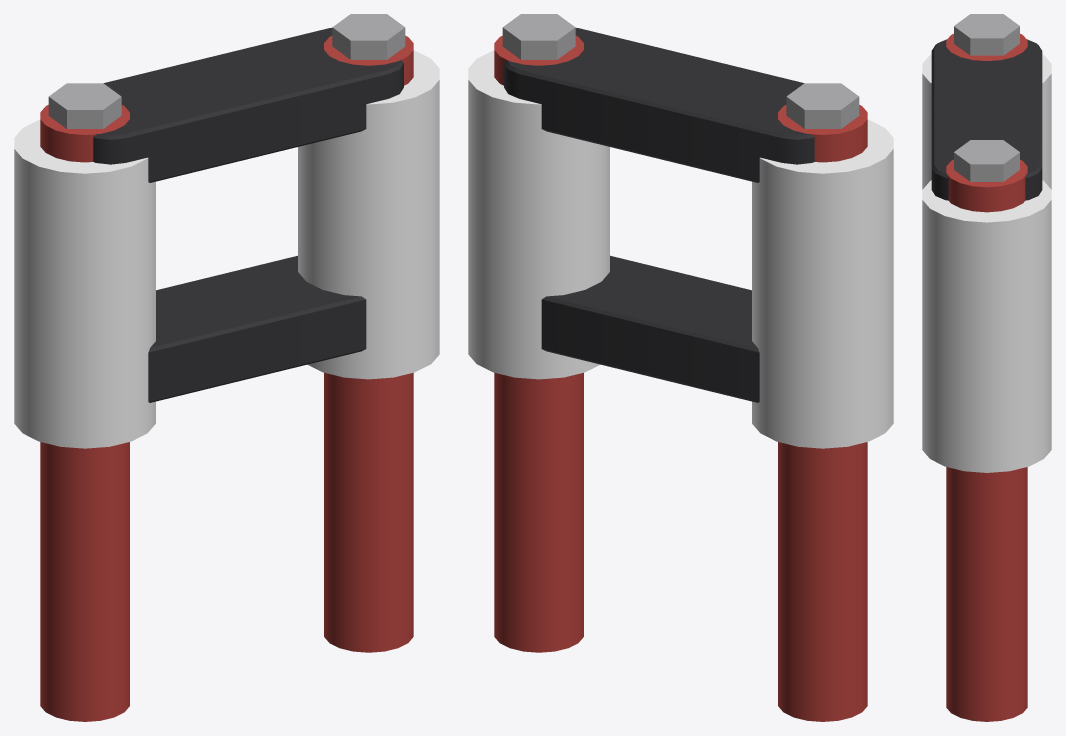
Rendered from cruiser_black_glide_upper.glb.
The picture shows the model from 3 angles, left to right: view 1: azimuth 30°, elevation 25°; view 2: azimuth 150°, elevation 25°; view 3: azimuth 270°, elevation 25°; orthographic projection. The views are drawn at different scales.
Visible parts, largest first — view 1: lod0; view 2: lod0; view 3: lod0.
Boxes of the visible parts, x1,y1,x2,y2 form: lod0: (14,14,439,721); lod0: (468,14,893,721); lod0: (922,14,1051,721).
Size of what is drawn, in the model's own units: 0.311 by 0.441 by 0.0936.
